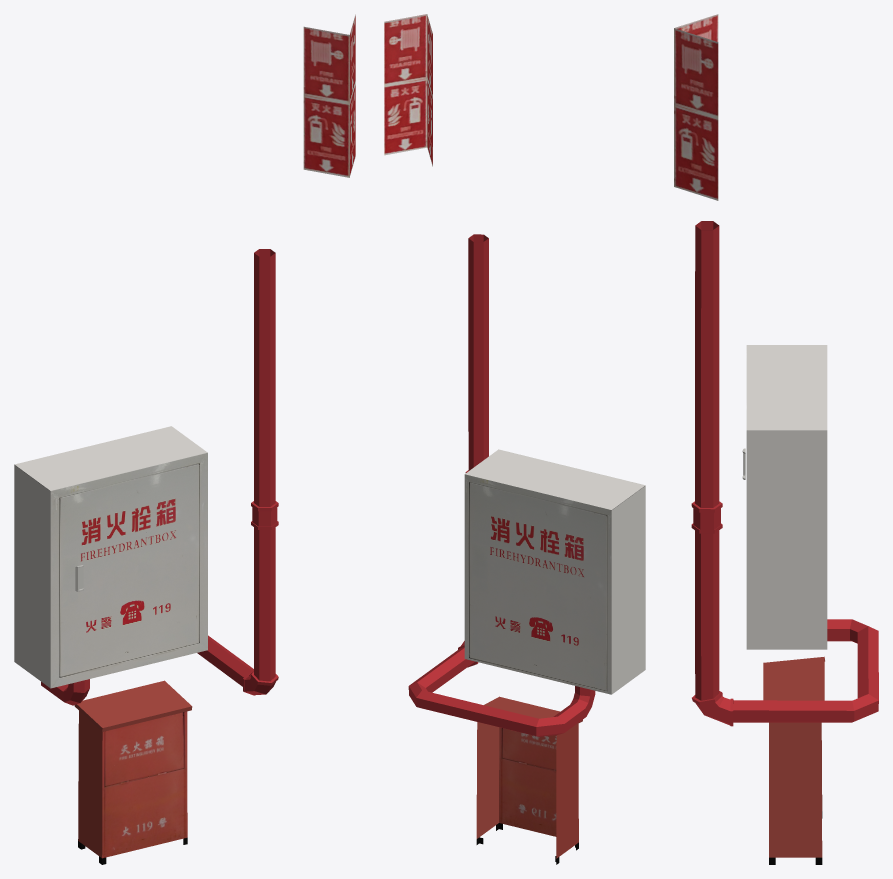
File: xiaohuo.FBX
3 renders of one model, left to right at view 1: azimuth 30°, elevation 25°; view 2: azimuth 150°, elevation 25°; view 3: azimuth 270°, elevation 25°, orthographic. The views are drawn at different scales.
Visible parts, largest first — view 1: YF_Model_xiaohuo_xiang01, YF_Model_xiaohuo_xiang02, YF_Model_xiaohuo_pai, YF_Model_xiaohuo_guan02, YF_Model_xiaohuo_guan01; view 2: YF_Model_xiaohuo_xiang01, YF_Model_xiaohuo_xiang02, YF_Model_xiaohuo_pai, YF_Model_xiaohuo_guan02, YF_Model_xiaohuo_guan01; view 3: YF_Model_xiaohuo_xiang01, YF_Model_xiaohuo_guan02, YF_Model_xiaohuo_xiang02, YF_Model_xiaohuo_pai, YF_Model_xiaohuo_guan01.
Part boxes in pixels (x1=…): YF_Model_xiaohuo_xiang01: x1=14, y1=426, x2=207, y2=688; YF_Model_xiaohuo_xiang02: x1=74, y1=680, x2=192, y2=858; YF_Model_xiaohuo_pai: x1=303, y1=14, x2=355, y2=177; YF_Model_xiaohuo_guan02: x1=41, y1=501, x2=278, y2=864; YF_Model_xiaohuo_guan01: x1=254, y1=249, x2=275, y2=506; YF_Model_xiaohuo_xiang01: x1=464, y1=449, x2=645, y2=694; YF_Model_xiaohuo_xiang02: x1=476, y1=696, x2=582, y2=858; YF_Model_xiaohuo_pai: x1=384, y1=14, x2=432, y2=166; YF_Model_xiaohuo_guan02: x1=408, y1=470, x2=595, y2=864; YF_Model_xiaohuo_guan01: x1=468, y1=234, x2=488, y2=470; YF_Model_xiaohuo_xiang01: x1=742, y1=345, x2=827, y2=649; YF_Model_xiaohuo_guan02: x1=691, y1=501, x2=878, y2=864; YF_Model_xiaohuo_xiang02: x1=763, y1=656, x2=824, y2=857; YF_Model_xiaohuo_pai: x1=674, y1=14, x2=718, y2=200; YF_Model_xiaohuo_guan01: x1=695, y1=221, x2=719, y2=507.
Bounding box in the file's own units: 92.9 × 246 × 50.75.
1 material, 1 textured.
